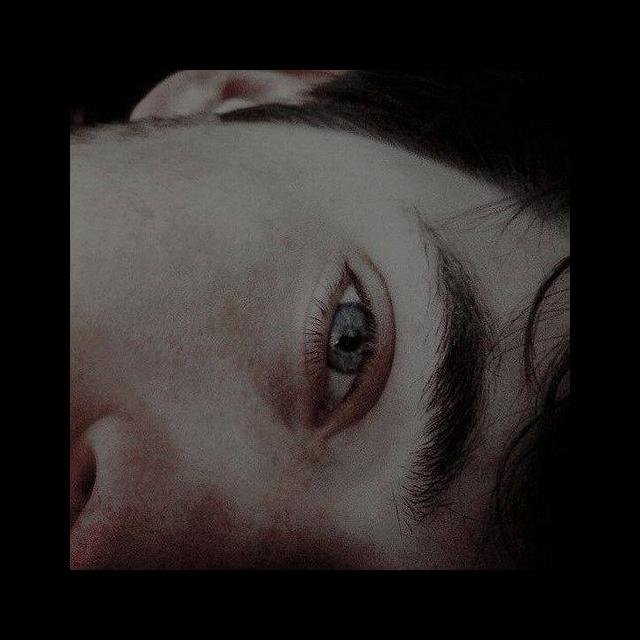eye: (323, 260, 375, 424)
iris: (328, 299, 371, 379)
